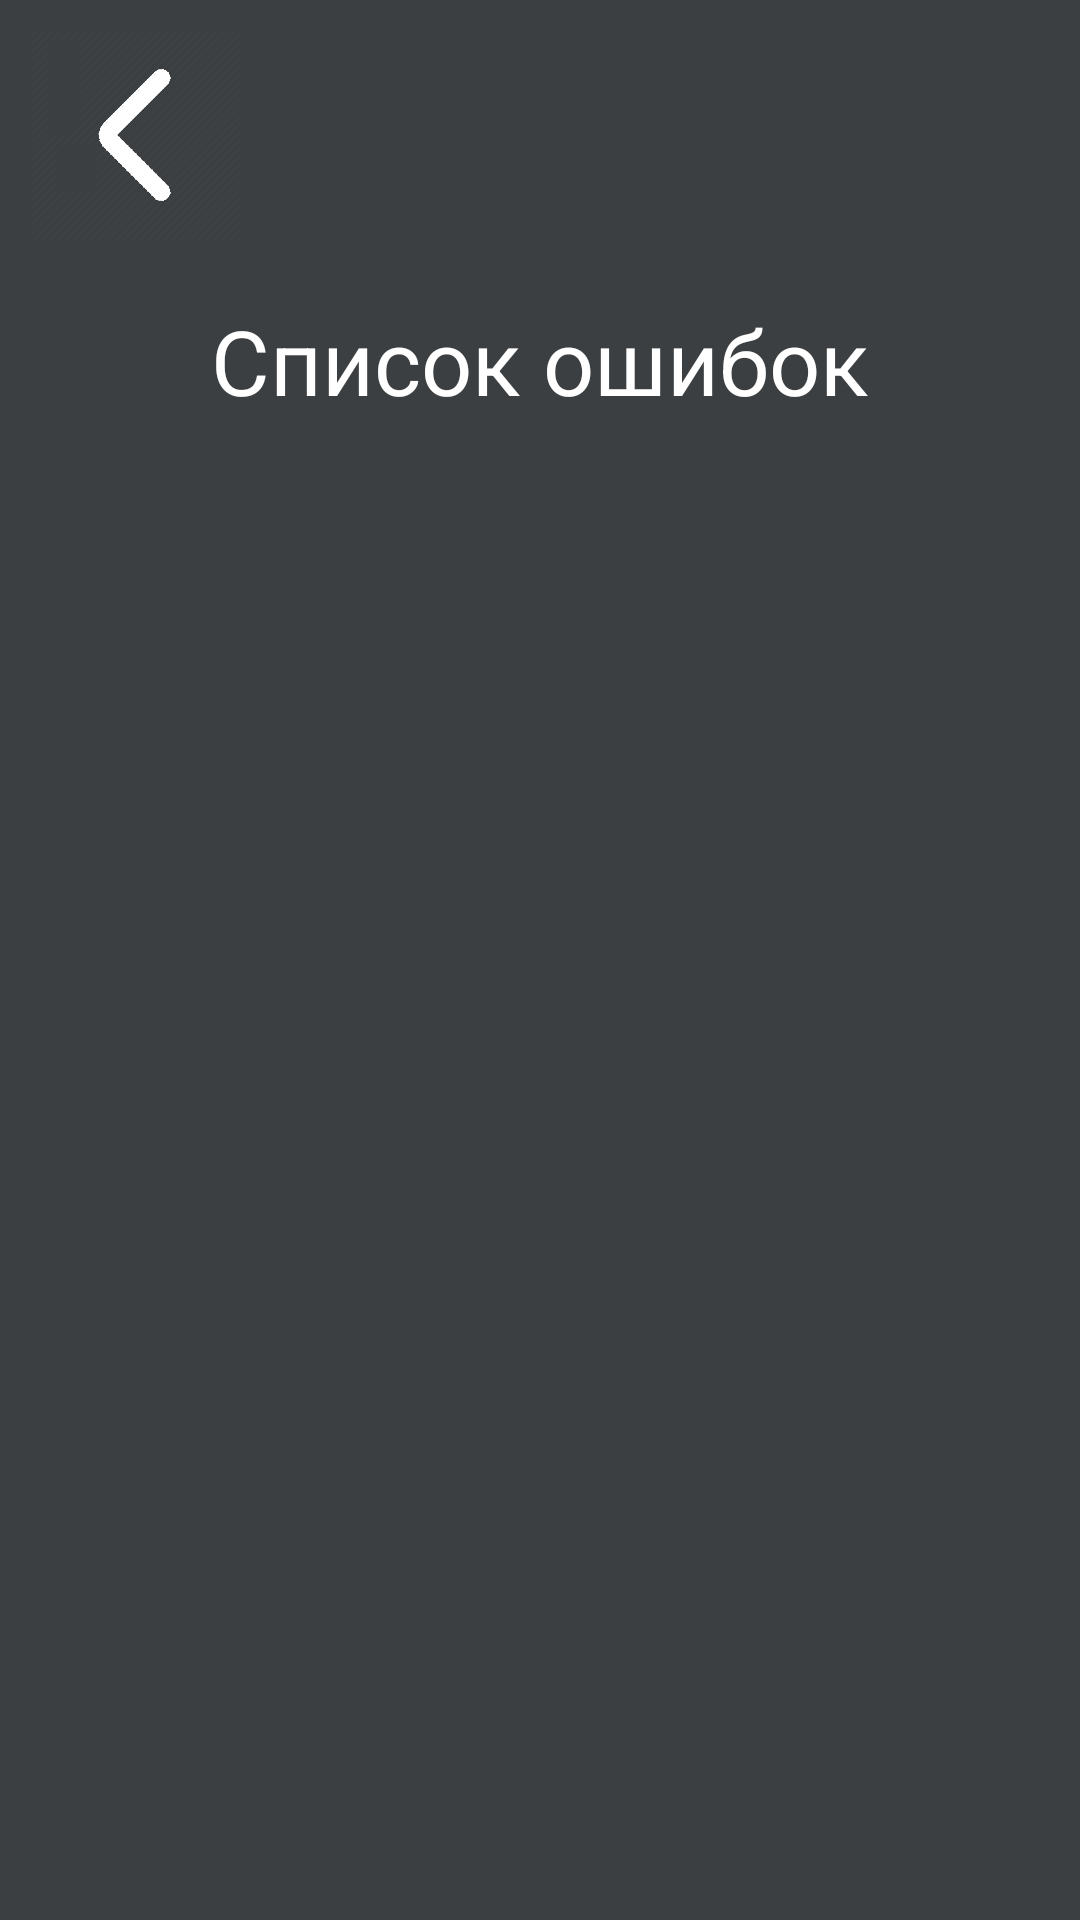

Screen size 1080×1920. Icon name, then its center in pixels as (x=x, y=y):
arrow: (x=134, y=135)
